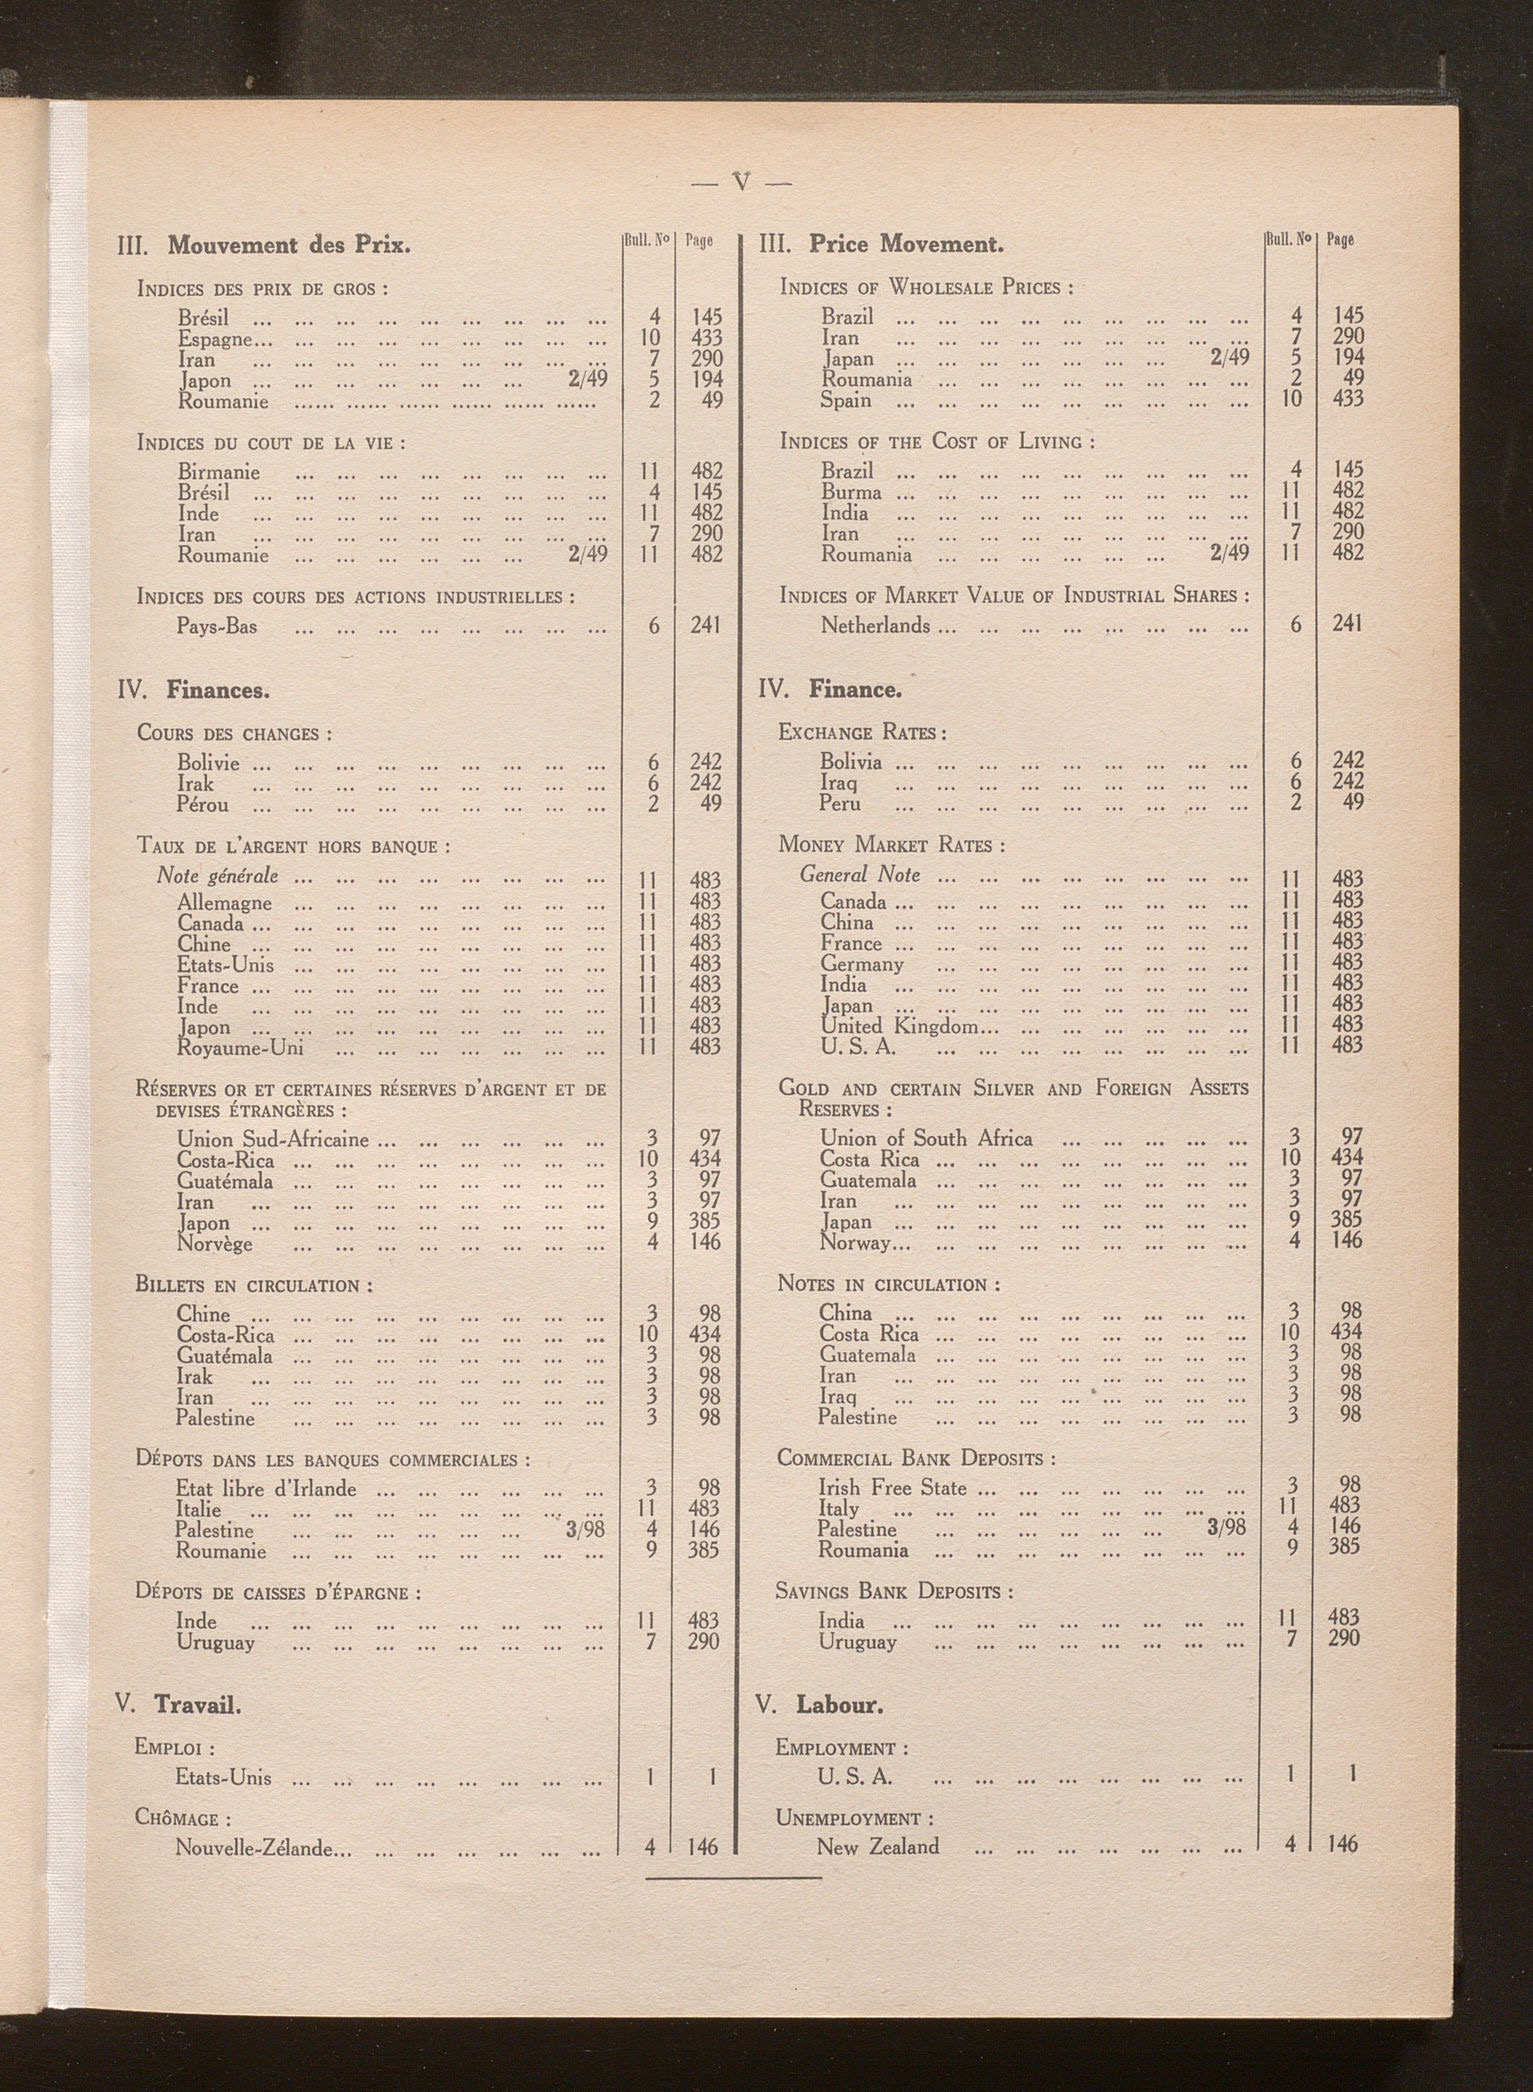QuireMarksZone: (98, 201, 740, 1881), (751, 208, 1392, 1868)
TitlePageZone: (683, 166, 800, 196)
